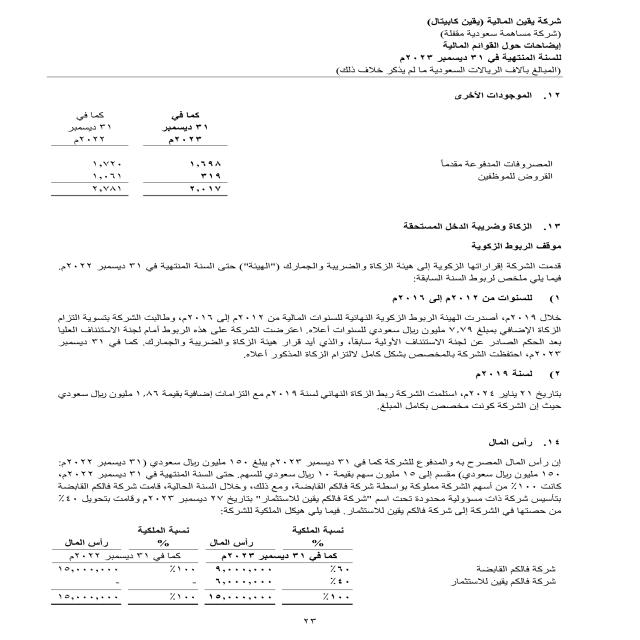notes: (437, 40, 571, 53)
table: (50, 522, 364, 612), (33, 104, 254, 211)
